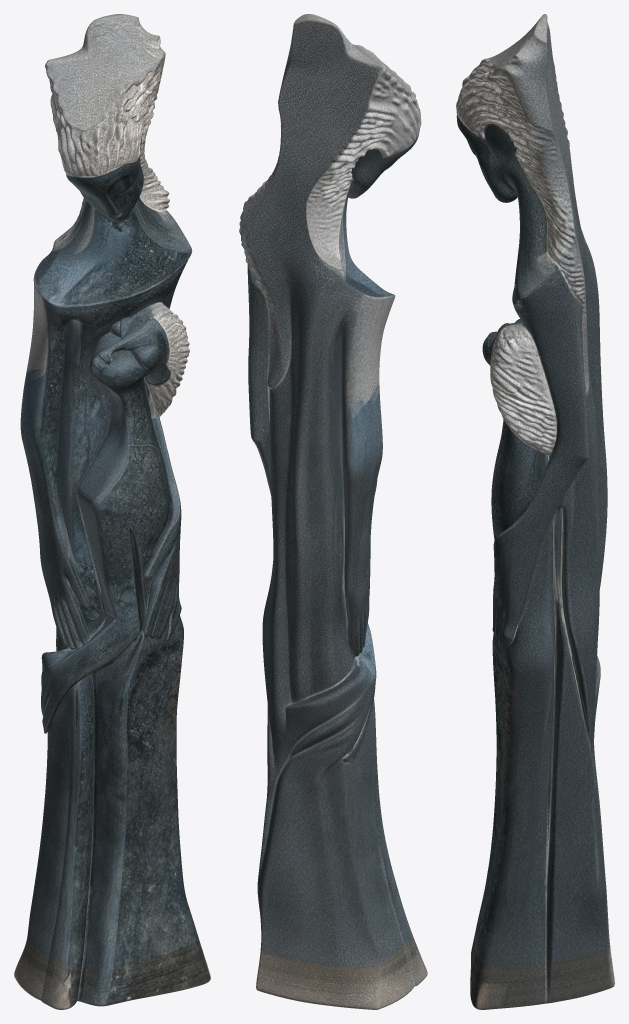
The model's file is tall-attention-uploaded-v1.glb.
3 renders of one model, left to right at view 1: azimuth 30°, elevation 25°; view 2: azimuth 150°, elevation 25°; view 3: azimuth 270°, elevation 25°, orthographic.
Size of the model in its own units: 0.321 by 1.9 by 0.2855.
Materials: 1 (1 with a texture image).
